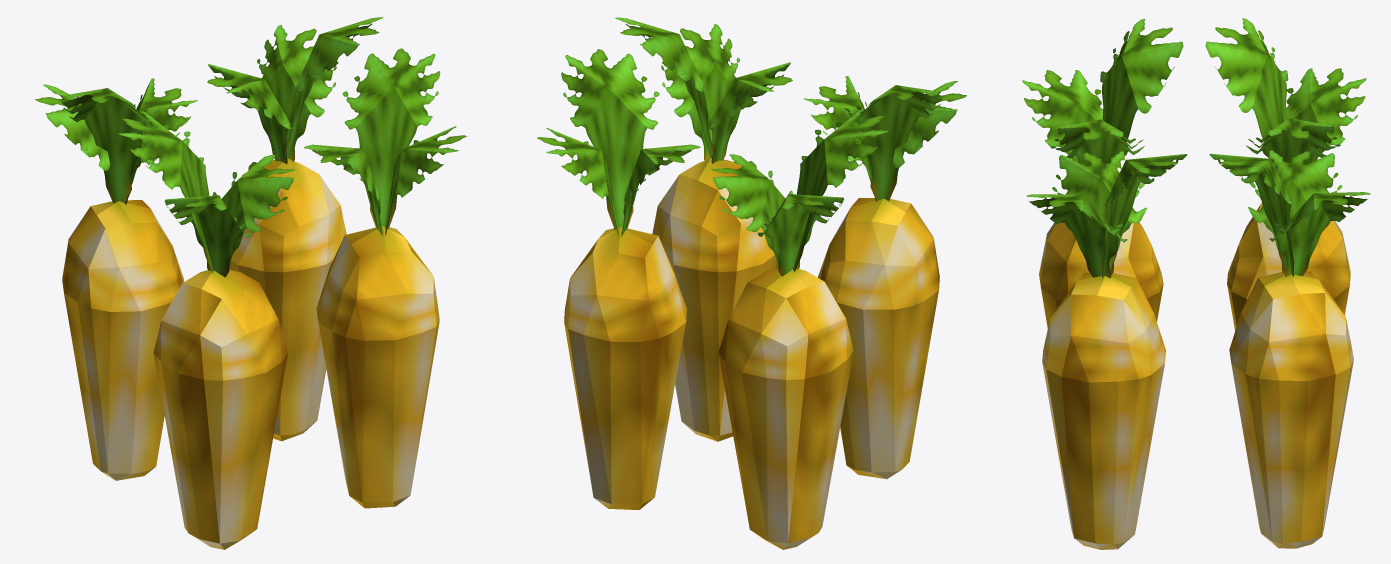
The model's file is Poly_Carrots_01.obj.
3 views of the same model, side by side, from view 1: azimuth 30°, elevation 25°; view 2: azimuth 150°, elevation 25°; view 3: azimuth 270°, elevation 25° (orthographic).
Visible parts, largest first — view 1: Cube.001, Cube.004; view 2: Cube.001, Cube.004; view 3: Cube.001, Cube.004.
Part boxes in pixels (x1,y1,x2,y2): Cube.001: (62, 158, 439, 549); Cube.004: (35, 17, 466, 277); Cube.001: (564, 158, 939, 549); Cube.004: (537, 17, 966, 276); Cube.001: (1039, 203, 1353, 549); Cube.004: (1022, 18, 1370, 278).
Bounding box in the file's own units: 0.5752 × 0.6937 × 0.5488.
1 material, 1 textured.
